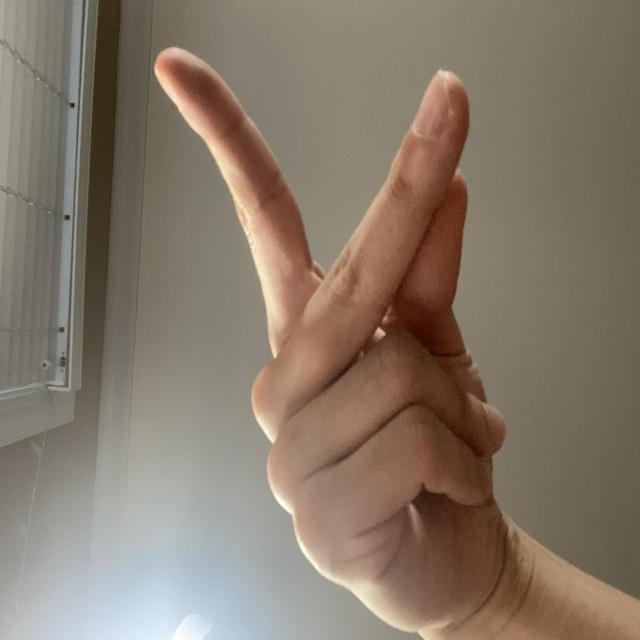P: (2, 194, 479, 640)
